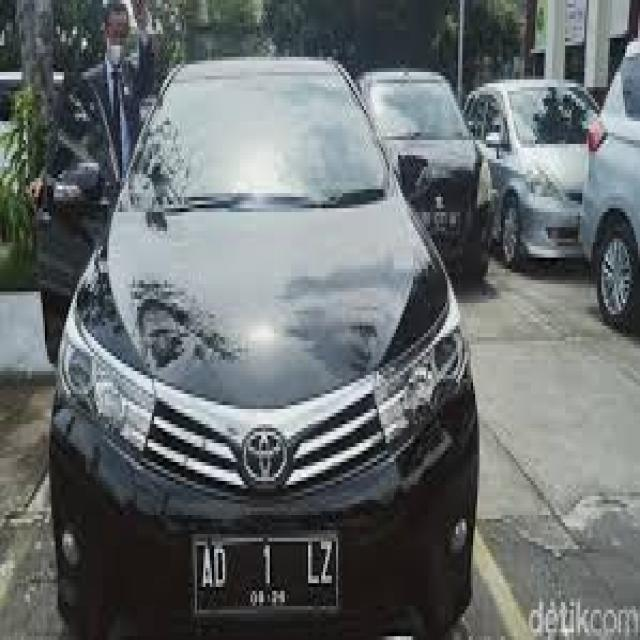lisence-plate: (177, 534, 346, 619)
